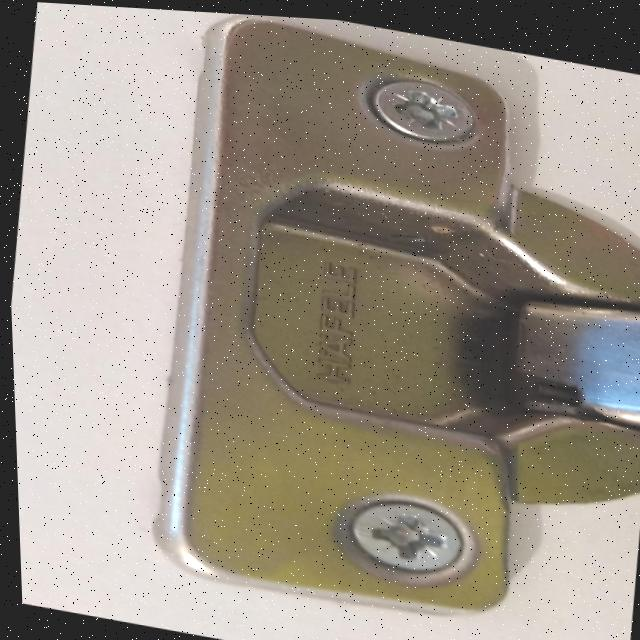Pozidriv: (316, 483, 494, 593), (351, 63, 502, 157)
